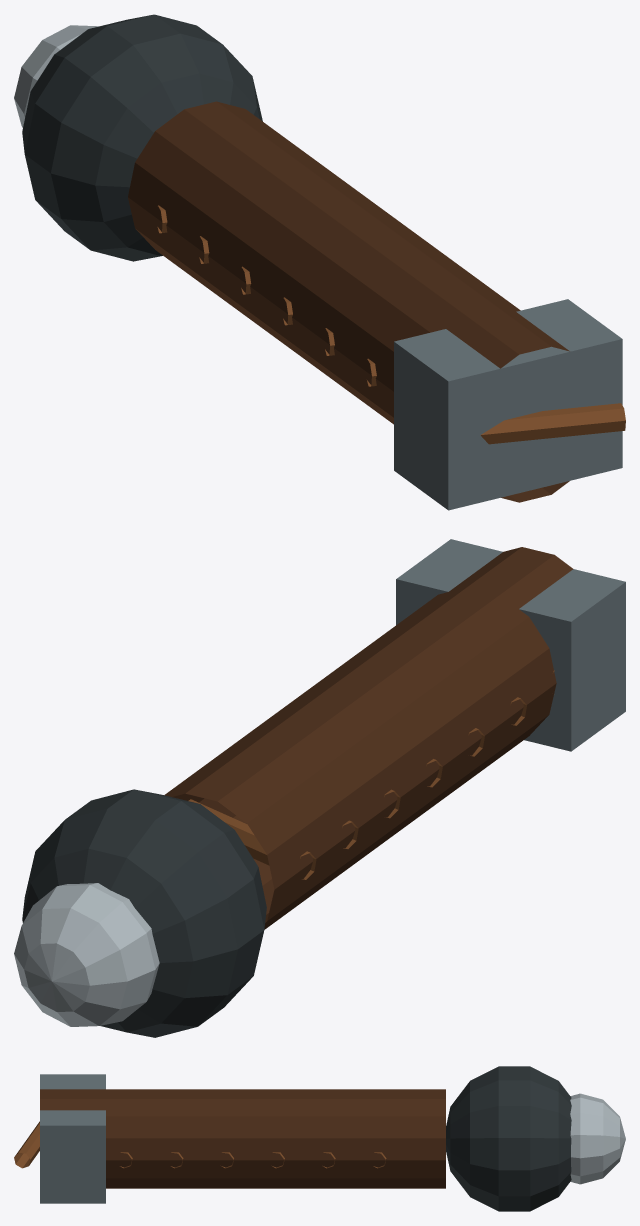
Rendered from grip_long.obj.
The picture shows the model from 3 angles, top to bottom: view 1: azimuth 30°, elevation 25°; view 2: azimuth 150°, elevation 25°; view 3: azimuth 270°, elevation 25°; orthographic projection. The views are drawn at different scales.
Parts seen in each view (by area): view 1: GripCore, UpperCollar, Pommel, Wrap7, PommelCap; view 2: GripCore, Pommel, UpperCollar, PommelCap, Wrap0; view 3: GripCore, Pommel, UpperCollar, PommelCap, Wrap7.
Part boxes in pixels (<box>): GripCore: <box>128,101,569,502</box>; UpperCollar: <box>394,299,622,510</box>; Pommel: <box>22,14,262,261</box>; Wrap7: <box>480,403,625,444</box>; PommelCap: <box>14,25,98,127</box>; GripCore: <box>164,547,572,929</box>; Pommel: <box>22,789,266,1037</box>; UpperCollar: <box>396,539,625,751</box>; PommelCap: <box>14,883,159,1026</box>; Wrap0: <box>188,799,316,879</box>; GripCore: <box>40,1089,445,1188</box>; Pommel: <box>446,1066,571,1211</box>; UpperCollar: <box>40,1074,105,1203</box>; PommelCap: <box>570,1093,625,1184</box>; Wrap7: <box>14,1121,39,1168</box>.
Bounding box in the file's own units: 0.585 × 0.5703 × 2.41.
